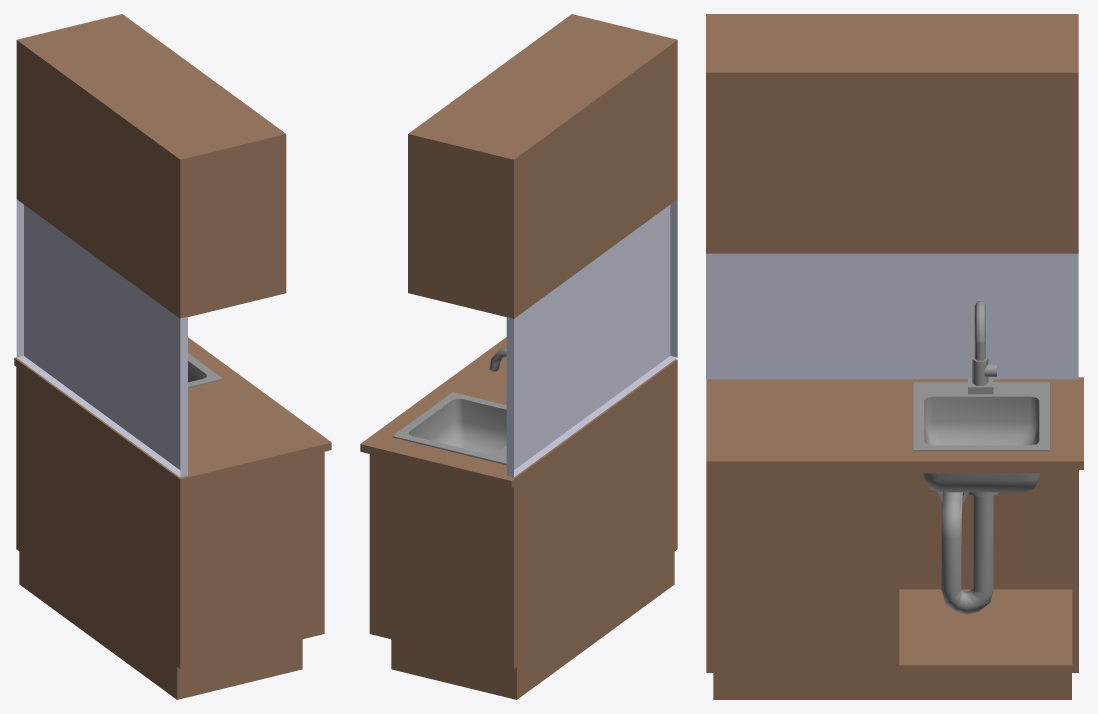
File: kitchen.fbx
3 views of the same model, side by side, from view 1: azimuth 30°, elevation 25°; view 2: azimuth 150°, elevation 25°; view 3: azimuth 270°, elevation 25° (orthographic). The views are drawn at different scales.
Parts seen in each view (by area): view 1: kitchen, kitchen_storage, tiles; view 2: kitchen, kitchen_storage, tiles; view 3: kitchen, kitchen_storage, tiles, tube.
Part boxes in pixels (box(x1,y1,x2,y2)): kitchen: box(14, 337, 331, 699); kitchen_storage: box(16, 14, 286, 318); tiles: box(16, 199, 187, 477); kitchen: box(360, 337, 677, 699); kitchen_storage: box(408, 14, 677, 318); tiles: box(506, 199, 677, 477); kitchen: box(706, 301, 1083, 699); kitchen_storage: box(706, 14, 1078, 253); tiles: box(706, 253, 1078, 379); tube: box(941, 492, 993, 614).
Bounding box in the file's own units: 0.6406 × 2.19 × 1.22.
